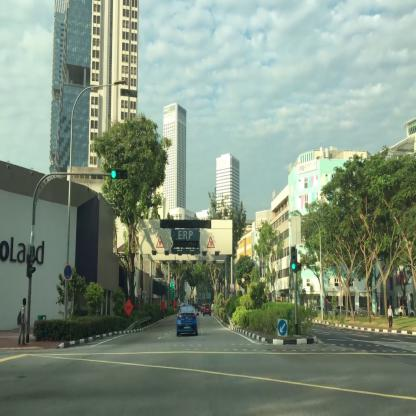green_traffic_light: (111, 168, 127, 180), (290, 246, 297, 271)
